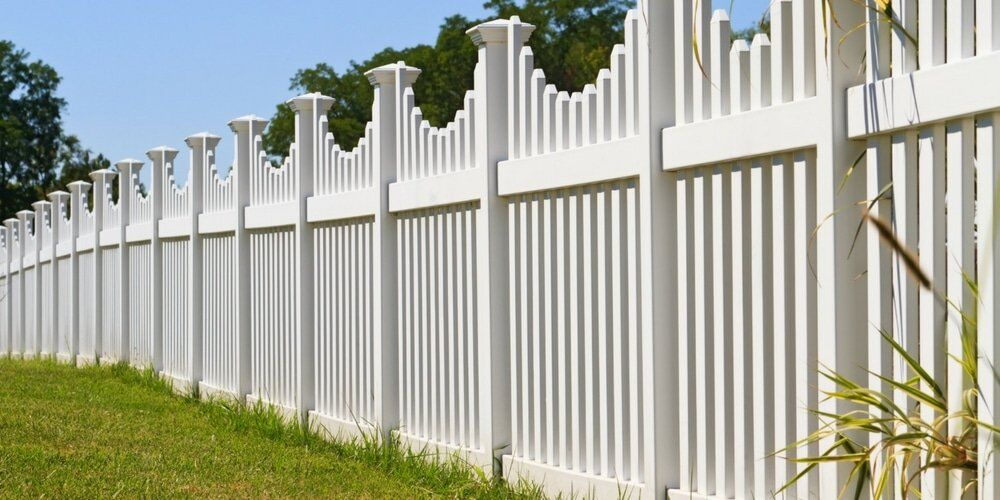Fence: (113, 47, 997, 500)
